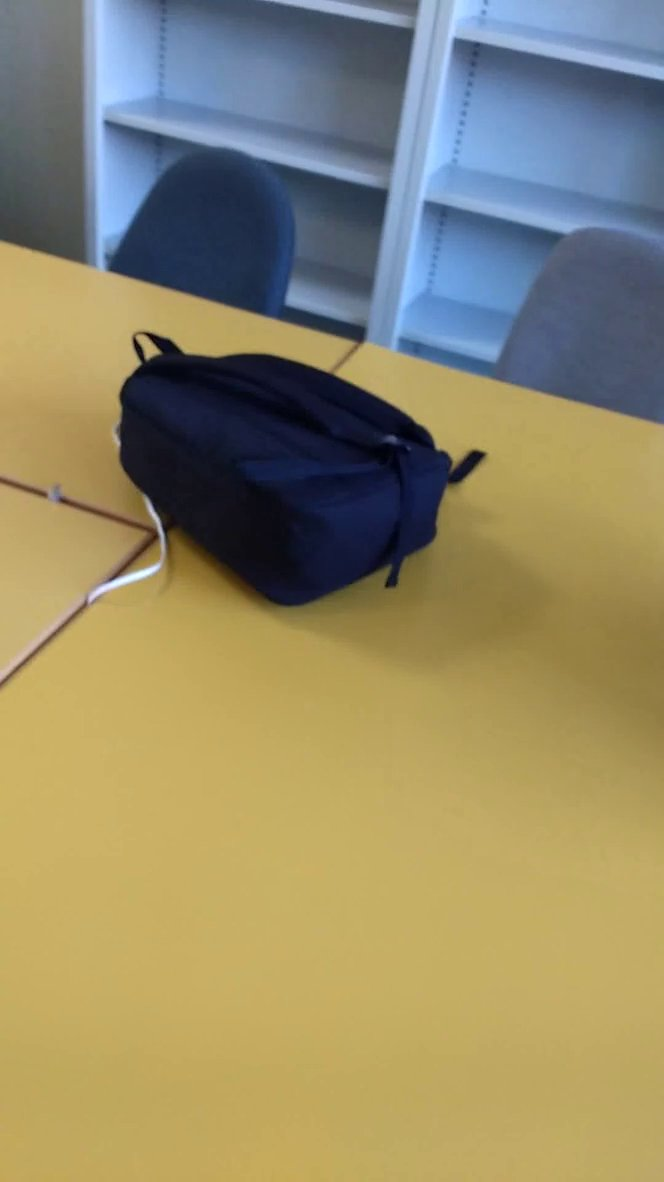bag: (88, 325, 500, 628)
chair: (84, 135, 319, 351)
